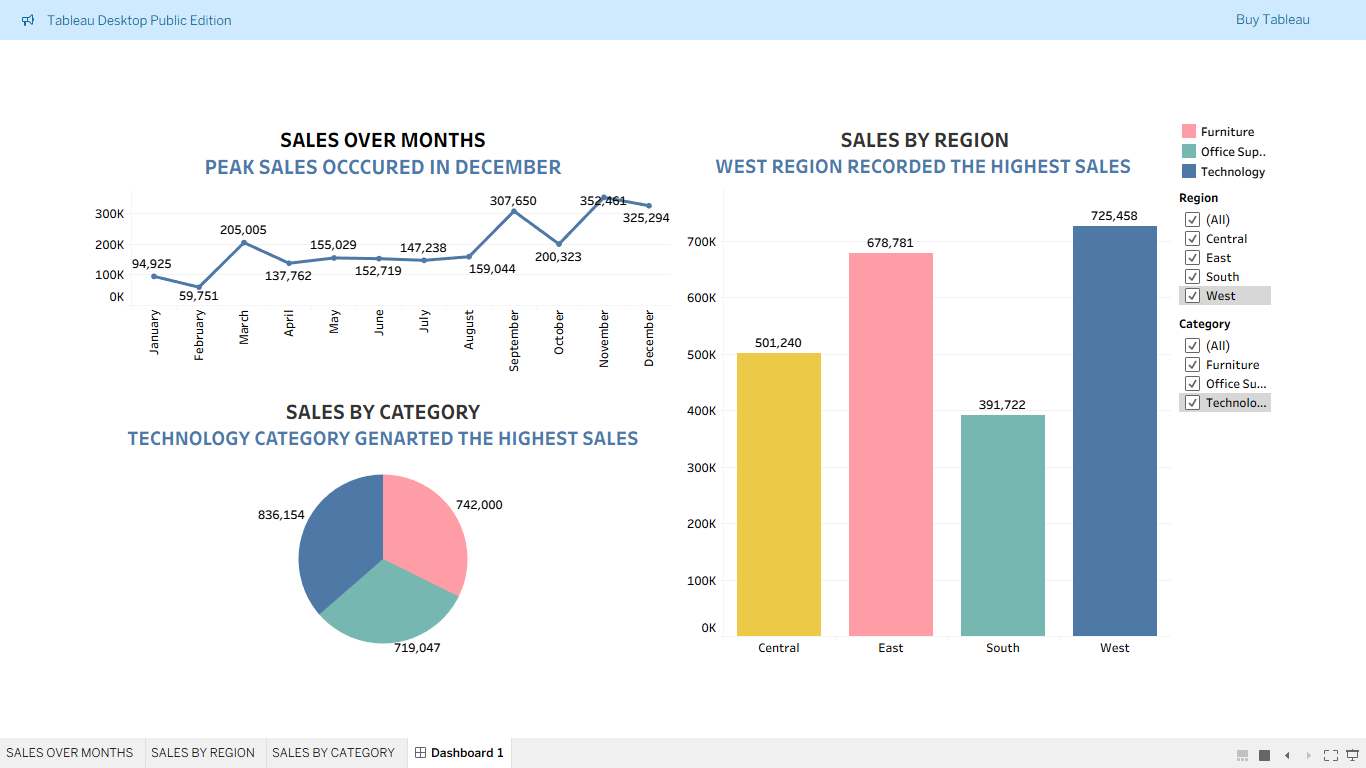

Layout of this report page (visuals, bound fields, positions):
{"tool":"tableau","page":{"name":"Dashboard 1","canvas":[1000,1000],"units":"permille","ordinal":0},"visuals":[{"type":"worksheet","title":"SALES OVER MONTHS","mark":"Automatic","rows":["Sales"],"cols":["Order Date"],"box":[7,14.5,483.8,485.5]},{"type":"worksheet","title":"SALES BY REGION","mark":"Automatic","rows":["Sales"],"cols":["Region"],"box":[490.8,14.5,414.3,971]},{"type":"legend","title":"SALES BY CATEGORY","param":"[federated.0j6ejdy0szfwxb1ddoj221u78vyb].[none:Category:nk]","box":[905.1,14.5,87.9,123.2]},{"type":"filter","title":"SALES BY REGION","param":"[federated.0j6ejdy0szfwxb1ddoj221u78vyb].[none:Region:nk]","box":[905.1,137.7,87.9,228.3]},{"type":"filter","title":"SALES BY CATEGORY","param":"[federated.0j6ejdy0szfwxb1ddoj221u78vyb].[none:Category:nk]","box":[905.1,365.9,87.9,195.7]},{"type":"worksheet","title":"SALES BY CATEGORY","mark":"Pie","box":[7,500,483.8,485.5]}]}

Visuals, with their boxes on the dashboard's canvas, which has no fixed pixel size, in thousandths of its width and height (x1, y1, x2, y2). These are canvas units, not pixel positions in the 1366x768 screenshot, which may show the page scaled, cropped or inside an application window:
"SALES OVER MONTHS" worksheet: [7,14,491,500]
"SALES BY REGION" worksheet: [491,14,905,986]
"SALES BY CATEGORY" legend: [905,14,993,138]
"SALES BY REGION" filter: [905,138,993,366]
"SALES BY CATEGORY" filter: [905,366,993,562]
"SALES BY CATEGORY" worksheet (Pie marks): [7,500,491,986]
